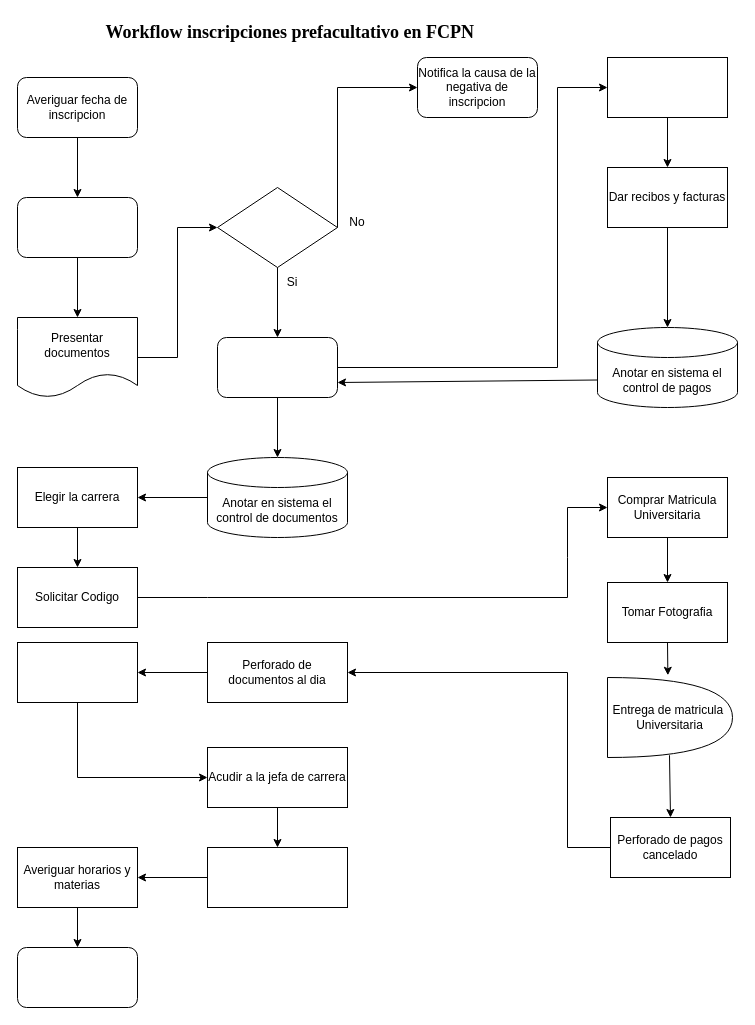
Image size: 755x1025. Some labels were removed from this diagram. Here are the shapes that lost their labels. From the top down, the centre of each, then its label:
At point (667, 87): "Pago de cuotas y matriculas".
At point (77, 227): "Se alistan los documentos".
At point (277, 227): "Documentos al dia".
At point (277, 367): "Se informa de pagos de inscripcion en caja".
At point (77, 672): "Solicitar asignacion de materias".
At point (277, 877): "Anotarse en las listas de la carrera".
At point (77, 977): "Asistir a las clases del prefacultativo".
